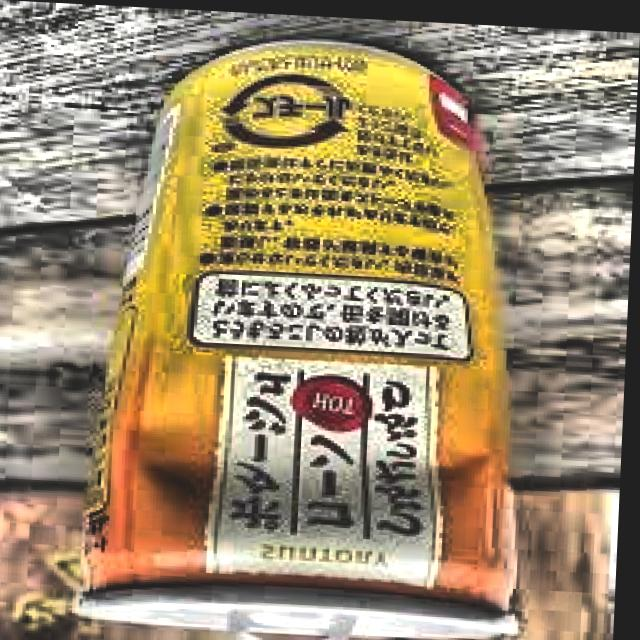can: (74, 8, 553, 640)
